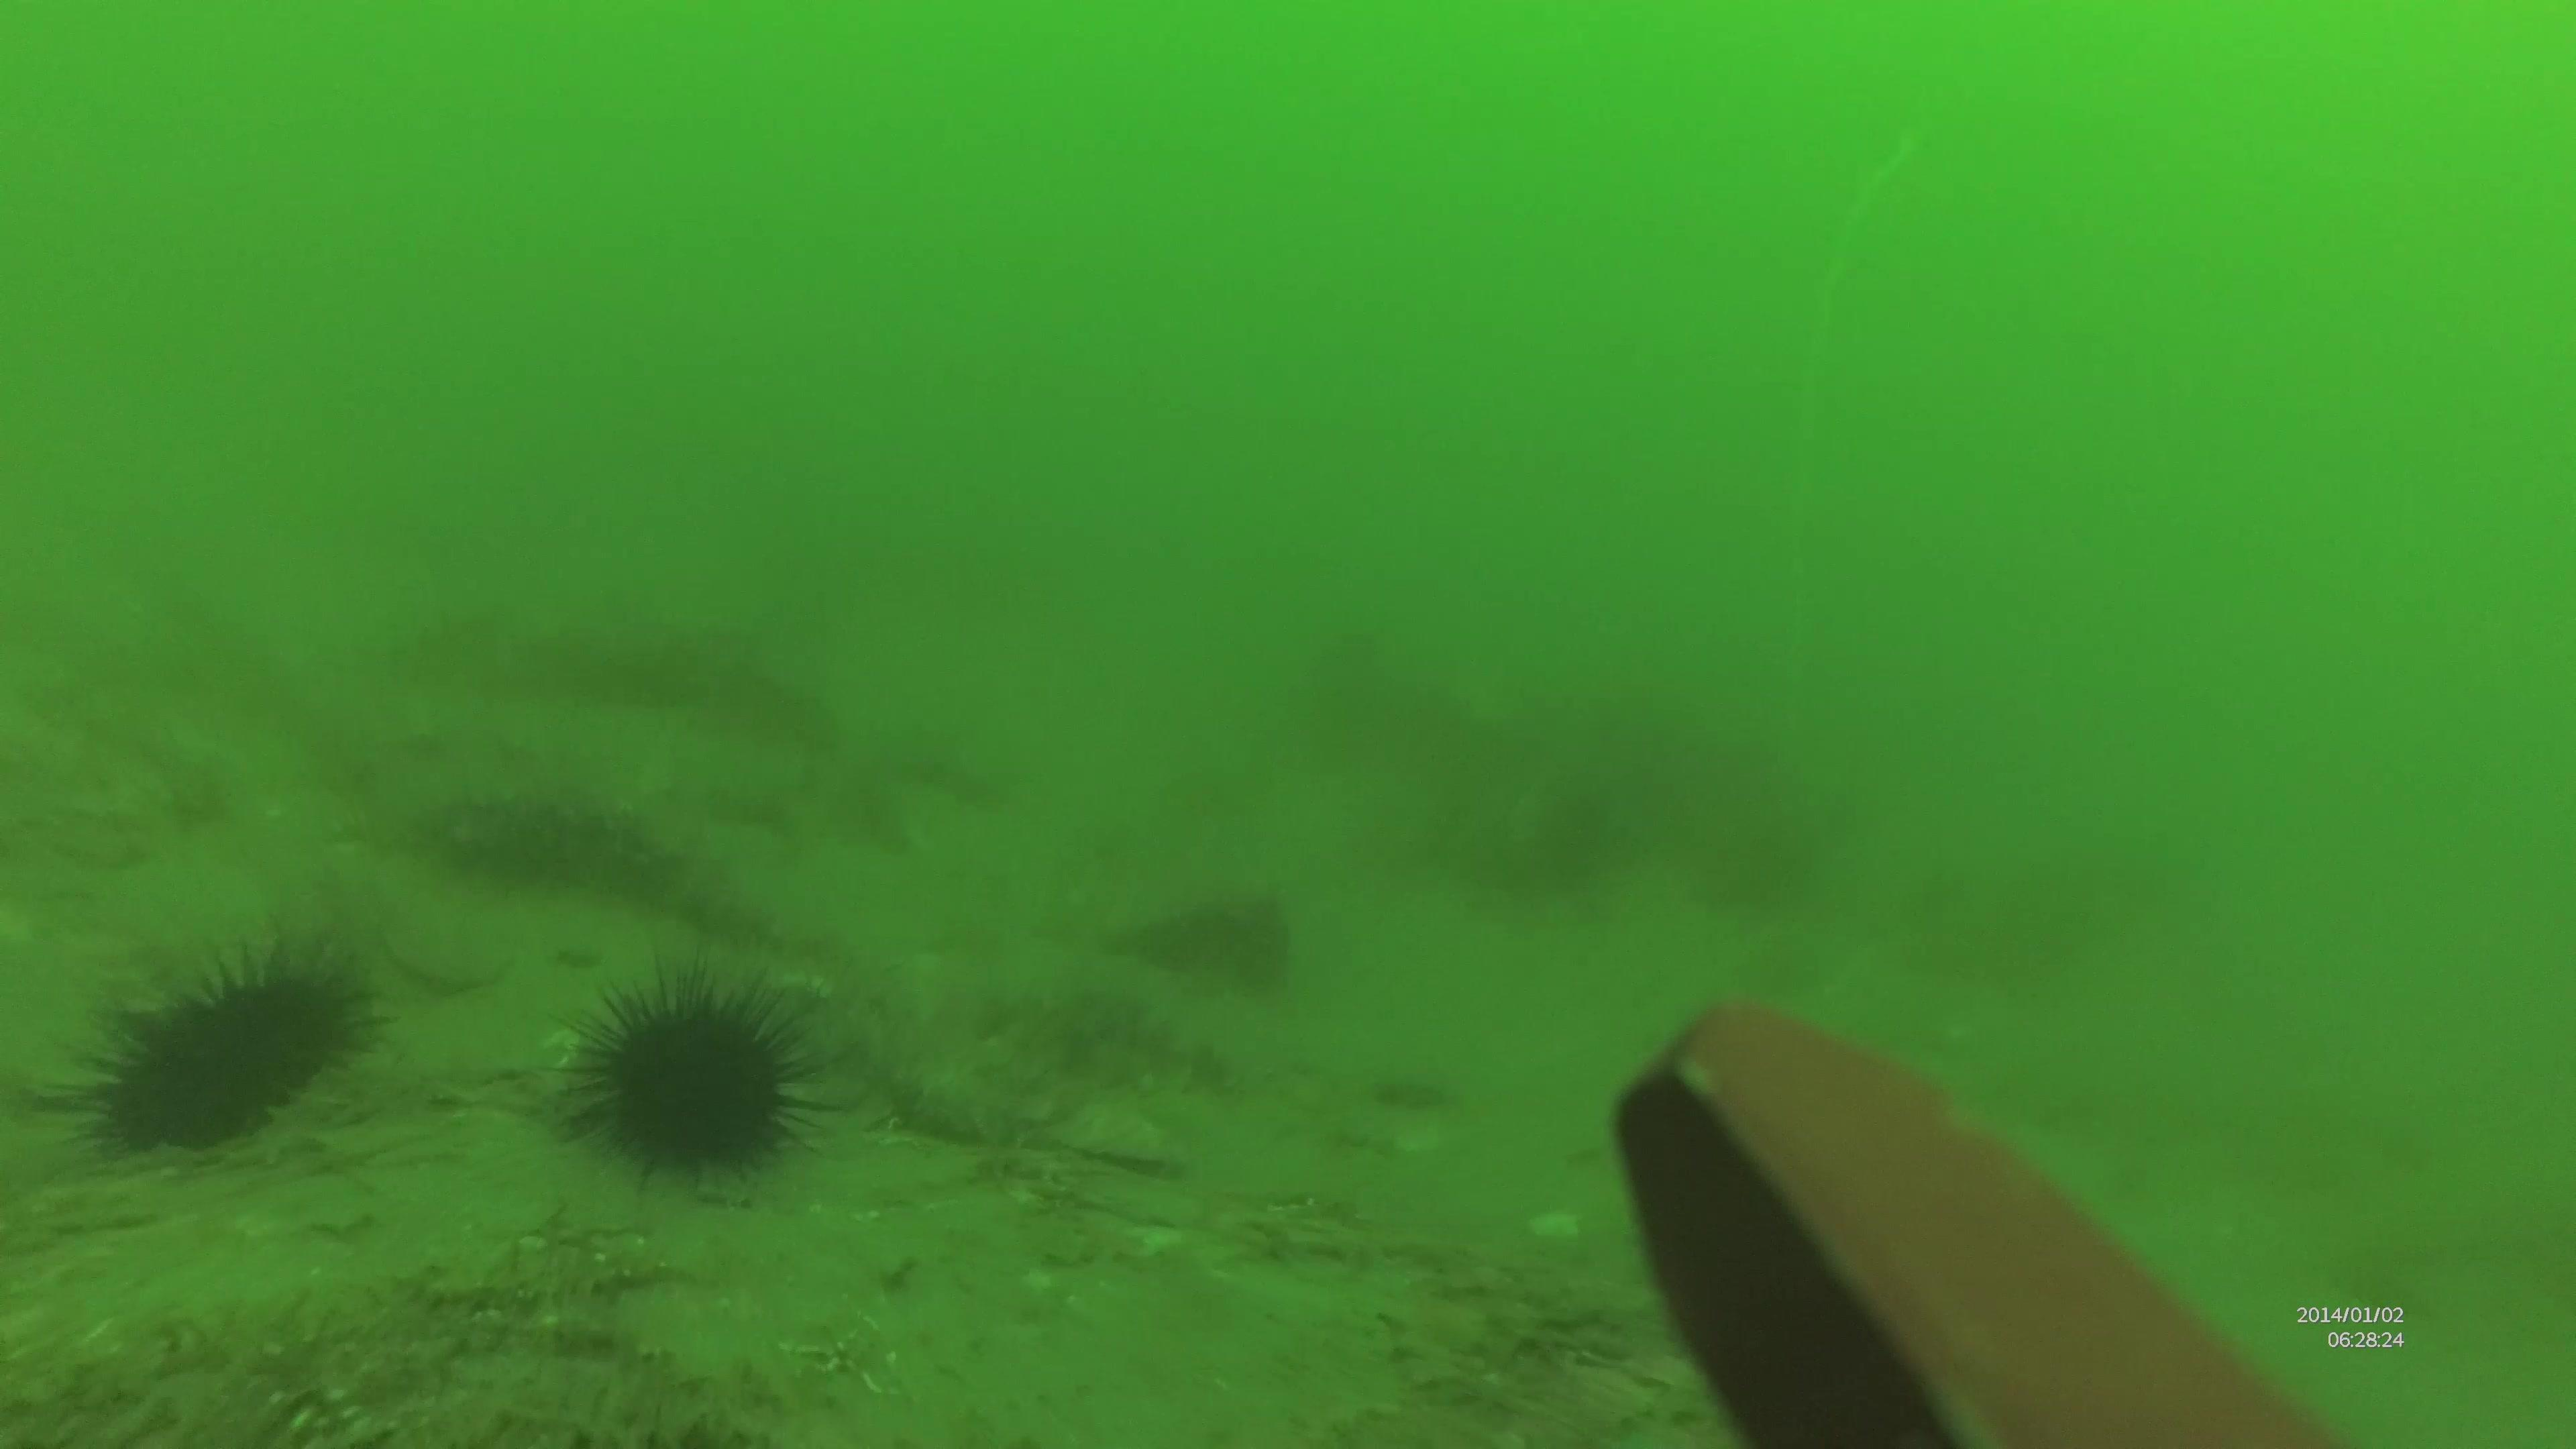echinus: (58, 947, 395, 1166), (552, 966, 809, 1187)
holothurian: (402, 786, 761, 927)
